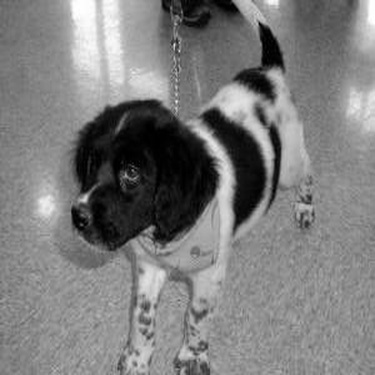dog: (60, 2, 320, 373)
